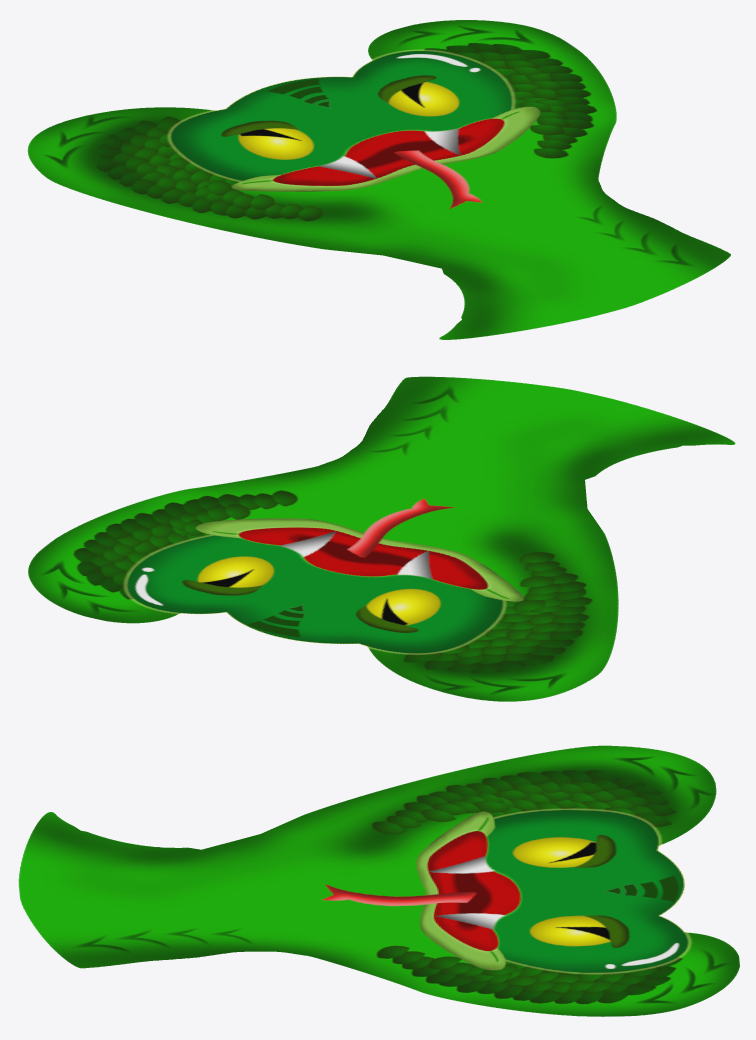
Rendered from obstacle - snake modified2.fbx.
3 views of the same model, one above another, from view 1: azimuth 30°, elevation 25°; view 2: azimuth 150°, elevation 25°; view 3: azimuth 270°, elevation 25° (orthographic). The views are drawn at different scales.
Visible parts, largest first — view 1: obstacle__snake:group2_pasted__pCylinder2; view 2: obstacle__snake:group2_pasted__pCylinder2; view 3: obstacle__snake:group2_pasted__pCylinder2.
Part boxes in pixels (x1,y1,x2,y2): obstacle__snake:group2_pasted__pCylinder2: (27,20,730,339); obstacle__snake:group2_pasted__pCylinder2: (28,376,735,701); obstacle__snake:group2_pasted__pCylinder2: (18,745,739,1016).
Size of the model in its own units: 5 by 0.0306 by 5.46.
Materials: 1 (1 with a texture image).
